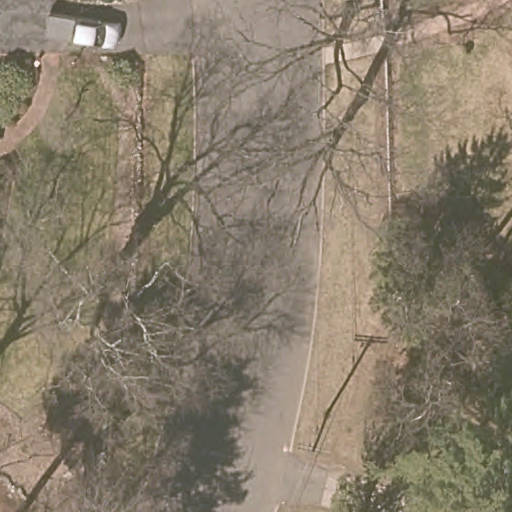DT: (296, 413, 332, 457)
